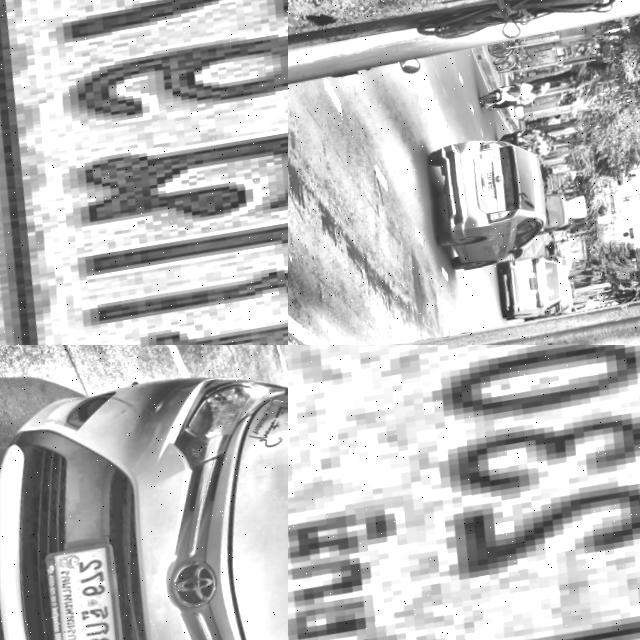license-plate: (288, 345, 640, 640), (0, 0, 288, 345), (36, 535, 139, 640), (483, 168, 500, 190), (533, 275, 544, 288)
